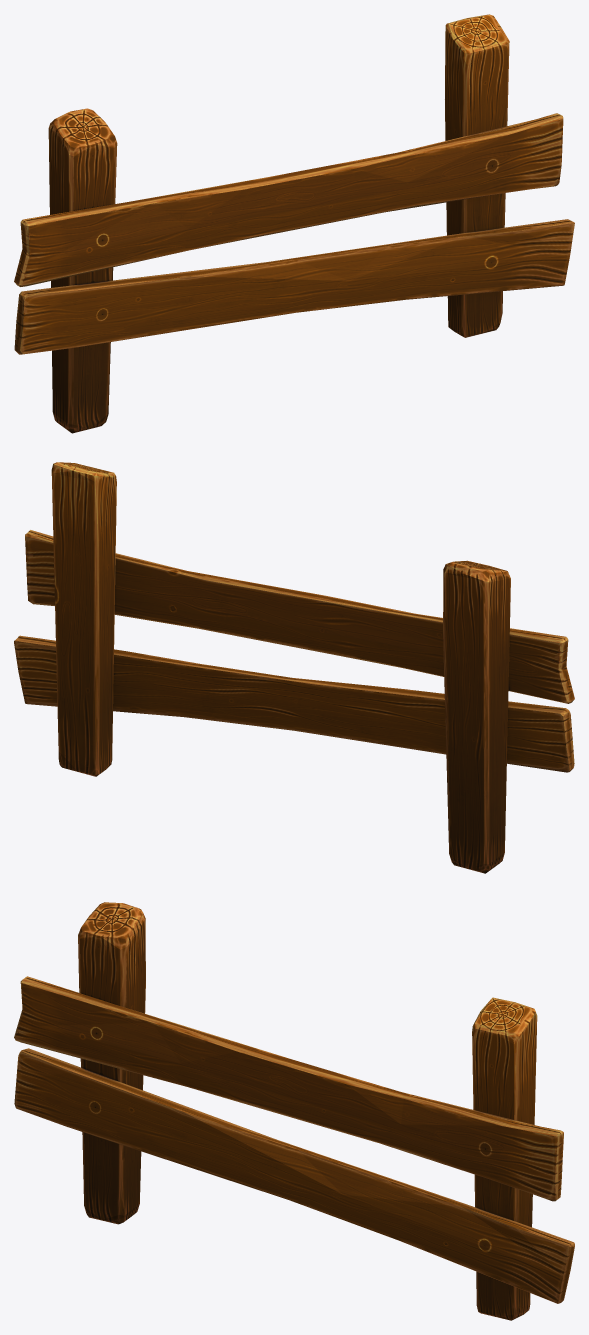
The model's file is HOS0710004.FBX.
3 views of the same model, one above another, from view 1: azimuth 30°, elevation 25°; view 2: azimuth 150°, elevation 25°; view 3: azimuth 330°, elevation 25° (orthographic).
Parts seen in each view (by area): view 1: smHOS0710004; view 2: smHOS0710004; view 3: smHOS0710004.
Part boxes in pixels (x1,y1,x2,y2): smHOS0710004: [14, 14, 574, 433]; smHOS0710004: [14, 462, 574, 873]; smHOS0710004: [14, 902, 574, 1320].
Bounding box in the file's own units: 185 × 96.85 × 18.26.
Materials: 1 (1 with a texture image).
